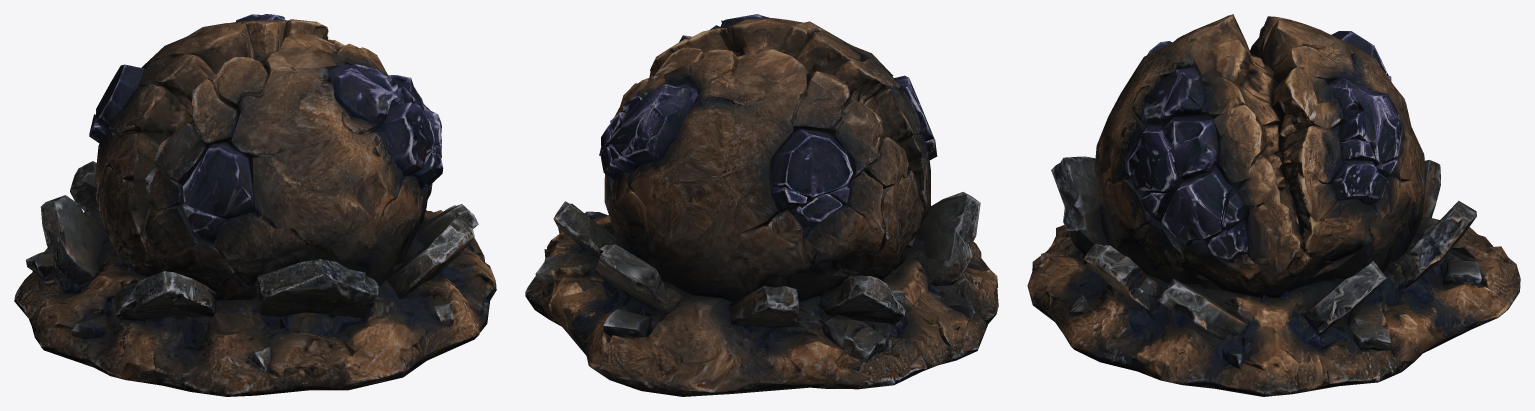
The picture shows the model from 3 angles, left to right: view 1: azimuth 30°, elevation 25°; view 2: azimuth 150°, elevation 25°; view 3: azimuth 270°, elevation 25°; orthographic projection.
Parts seen in each view (by area): view 1: star_core; view 2: star_core; view 3: star_core.
Part boxes in pixels (x1=…): star_core: x1=14, y1=14, x2=496, y2=396; star_core: x1=525, y1=14, x2=998, y2=396; star_core: x1=1027, y1=14, x2=1520, y2=396.
Bounding box in the file's own units: 0.982 × 0.5781 × 0.9807.
Materials: 1 (1 with a texture image).
